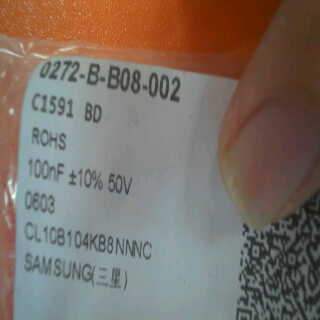100nF: (25, 156, 65, 185)
